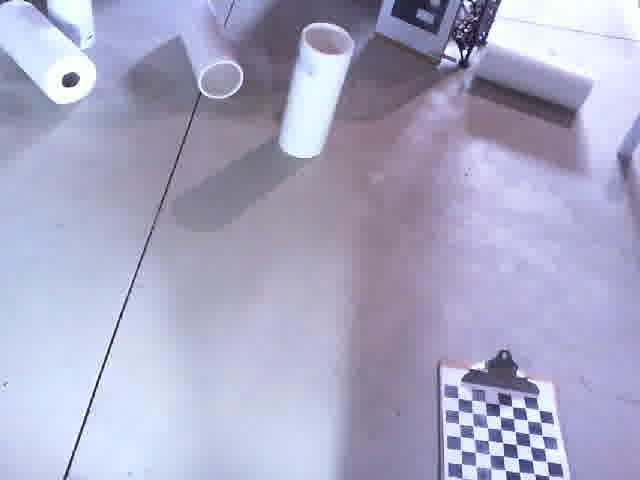coral: (273, 20, 353, 161), (472, 39, 599, 114), (172, 0, 249, 102)
